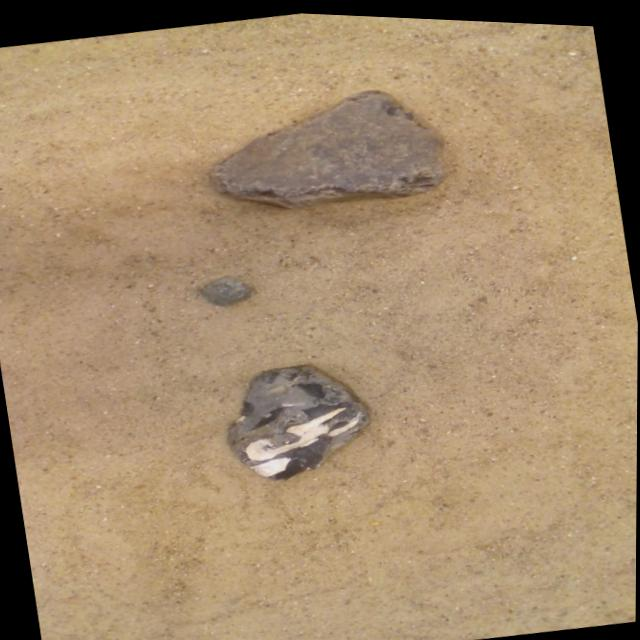rock: (212, 86, 446, 204), (230, 361, 370, 476), (202, 274, 251, 303)
